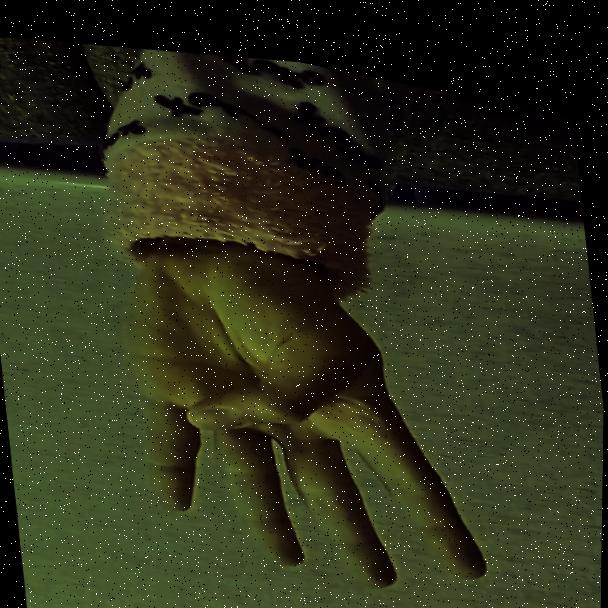four: (7, 146, 543, 608)
